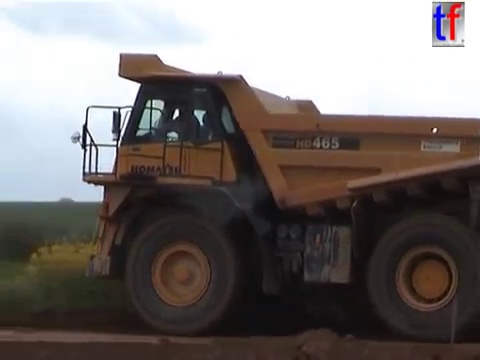excavator: (67, 49, 480, 344)
